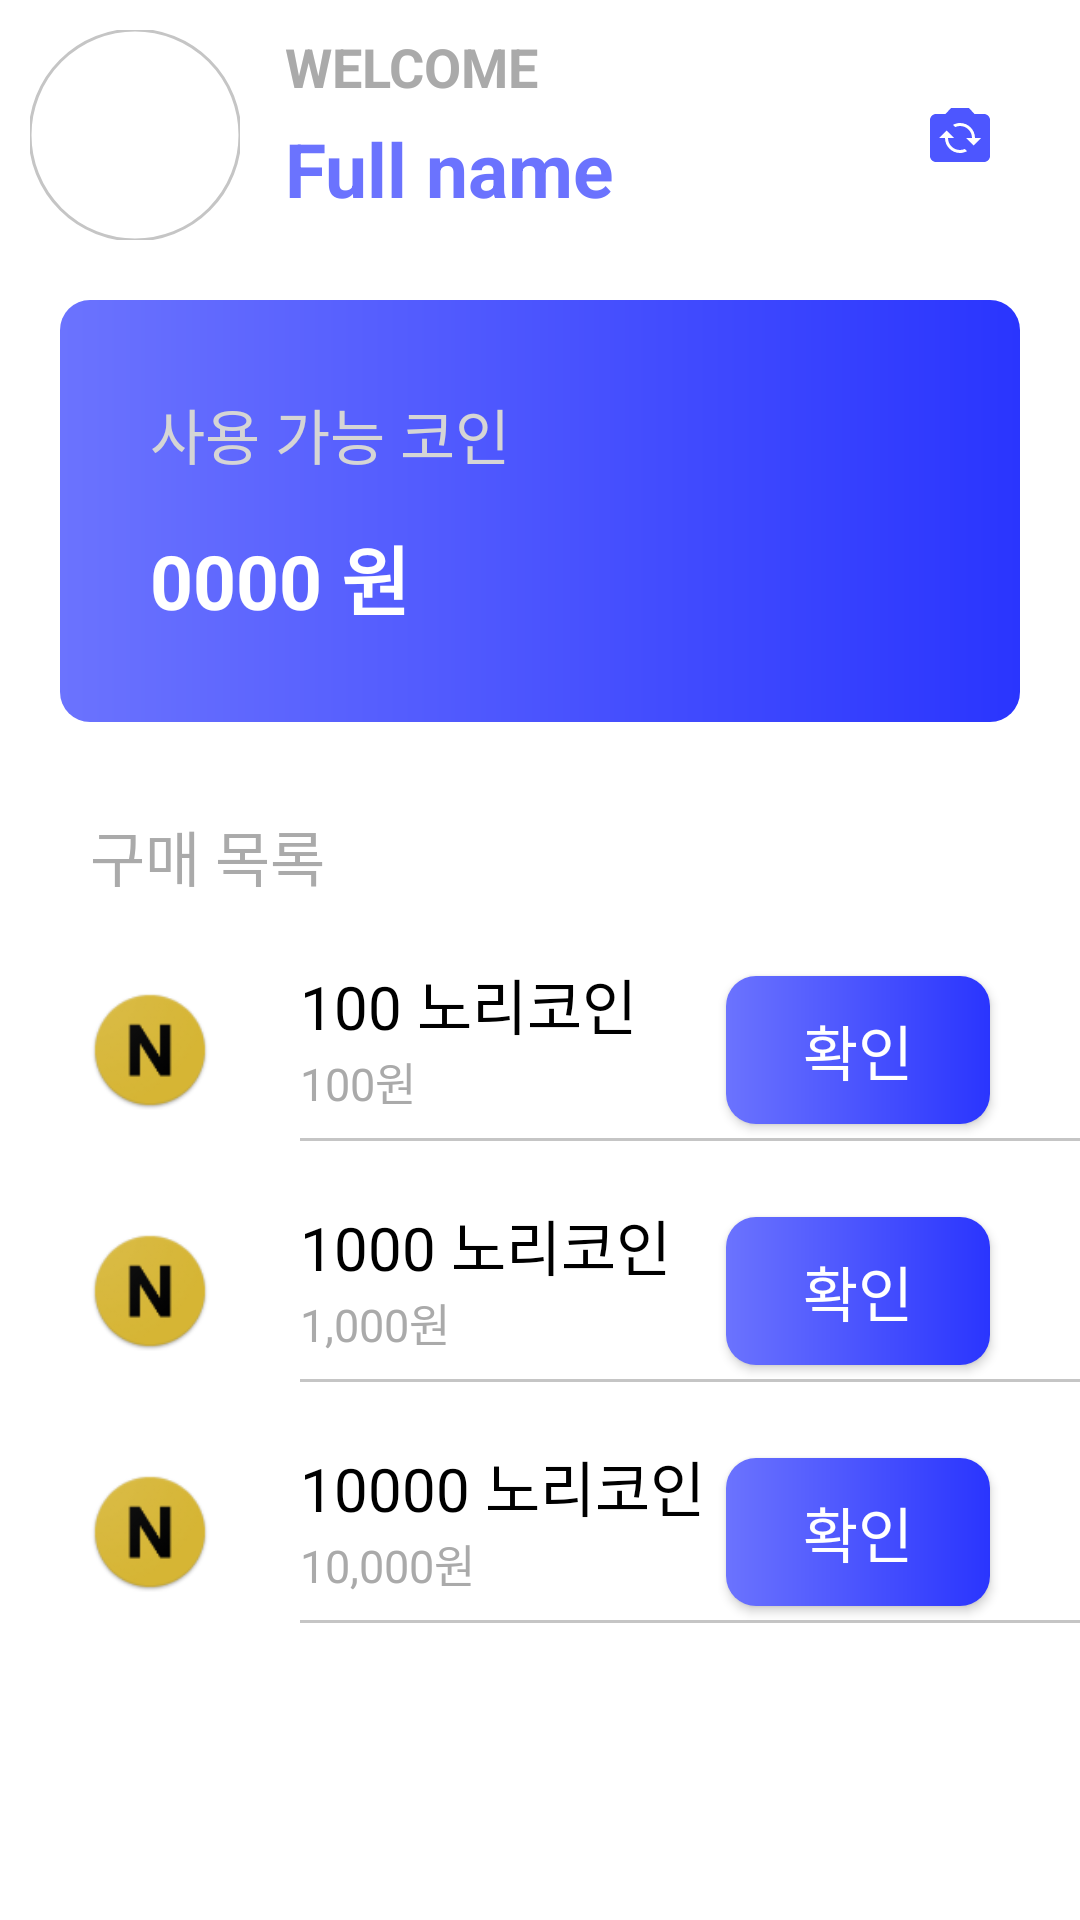

Where to tap for icons on this 1080x1920 app screen, as (x,y):
camera: (960,135)
